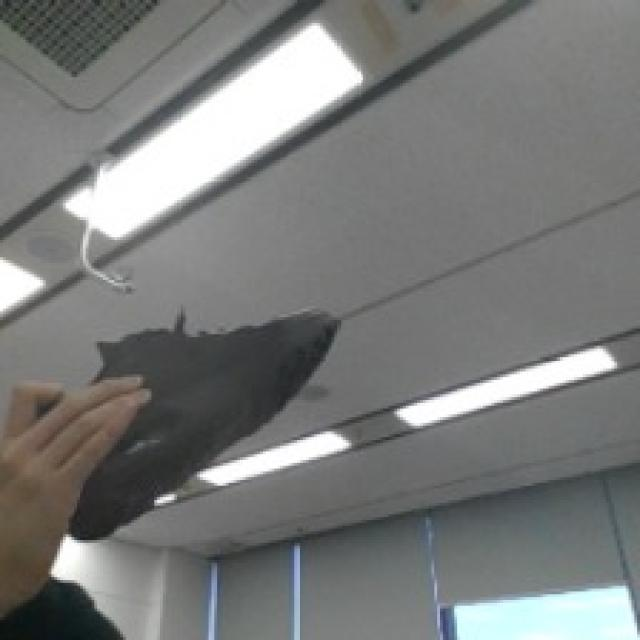shoe: (10, 252, 355, 515)
